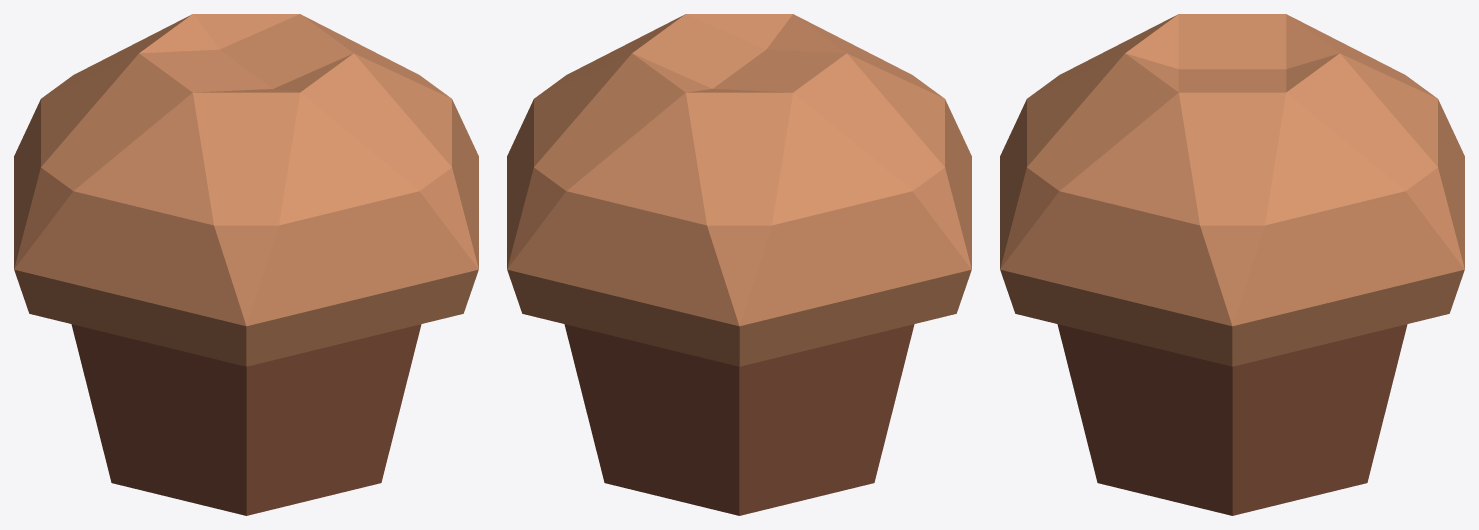
Rendered from muffin.glb.
3 renders of one model, left to right at view 1: azimuth 30°, elevation 25°; view 2: azimuth 150°, elevation 25°; view 3: azimuth 270°, elevation 25°, orthographic.
Visible parts, largest first — view 1: muffin; view 2: muffin; view 3: muffin.
Boxes of the visible parts, x1,y1,x2,y2 form: muffin: (14, 14, 478, 515); muffin: (507, 14, 971, 515); muffin: (1000, 14, 1464, 515).
Bounding box in the file's own units: 0.0975 × 0.0796 × 0.0844.
